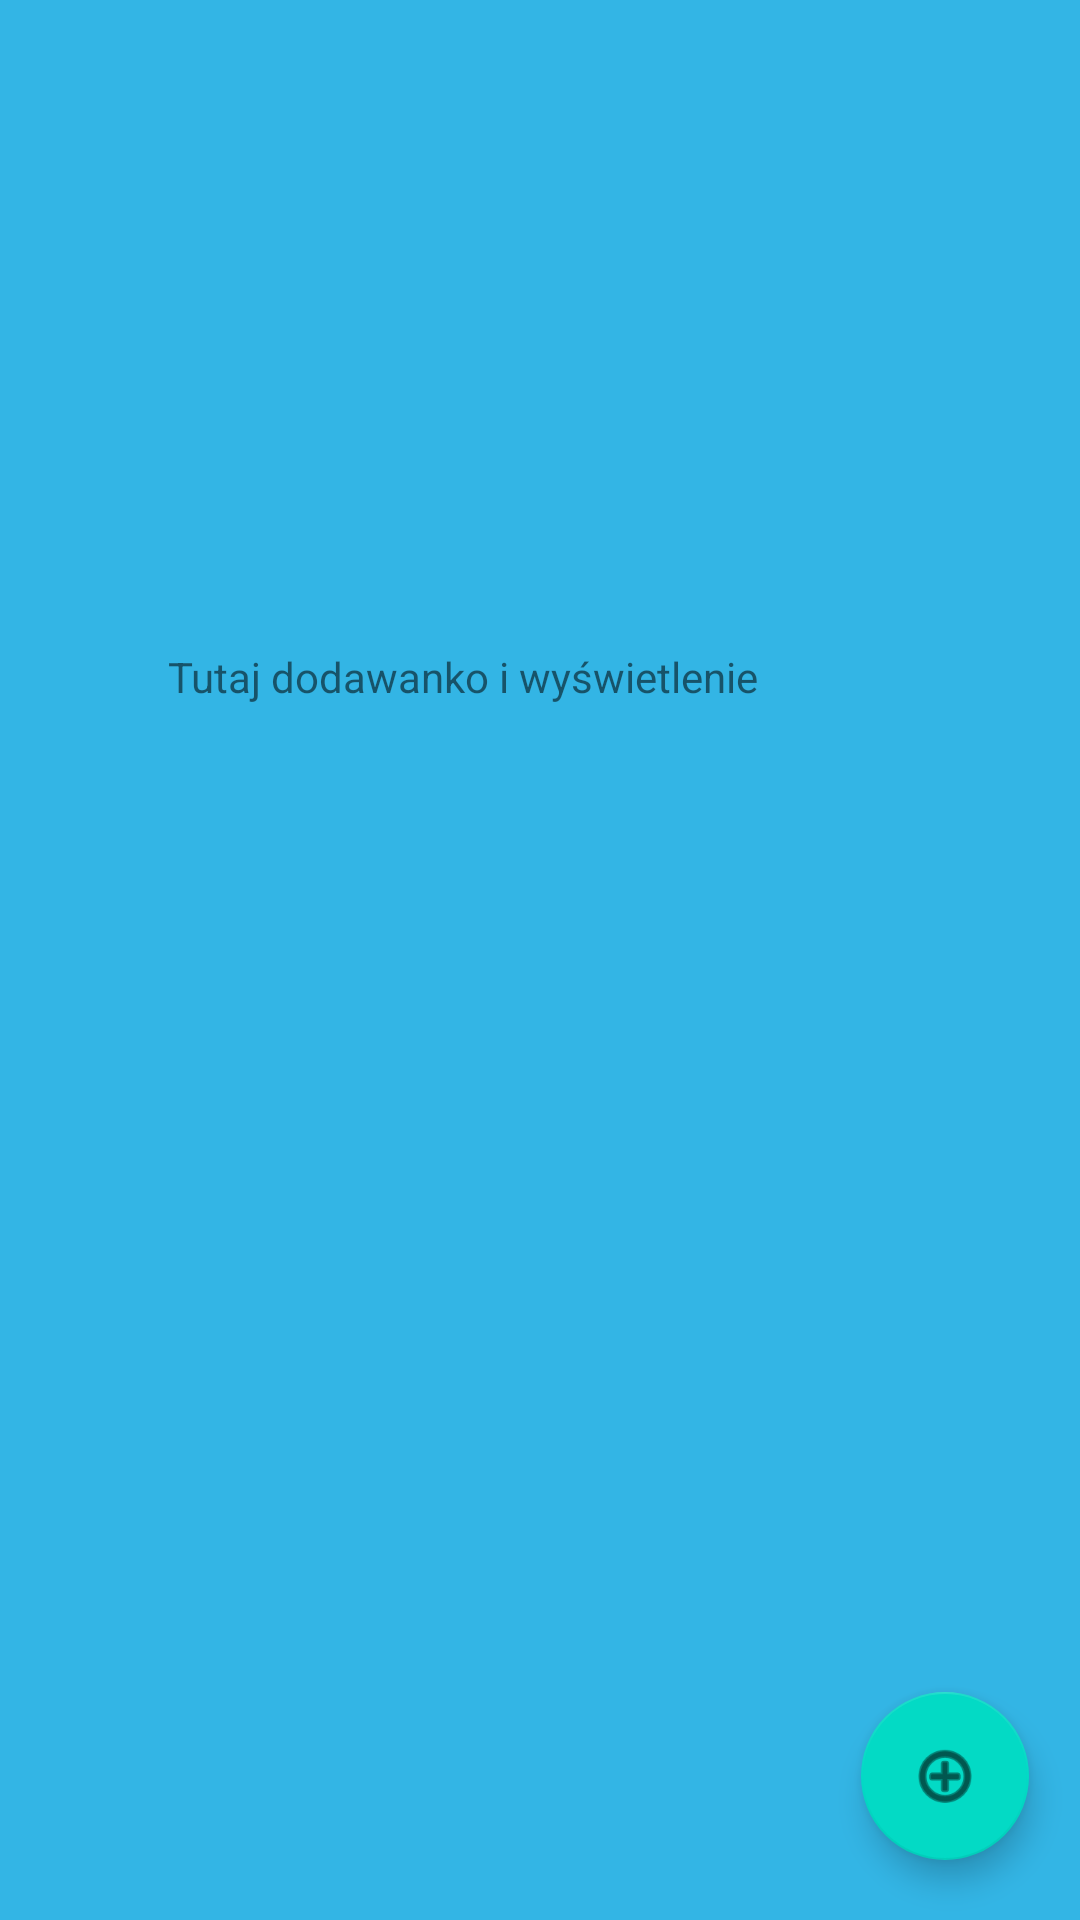

Named icons in this screenshot (1080w x 1920h) and their bounding boxes, (x1, y1, x2, y2):
add: (861, 1692, 1029, 1860)
